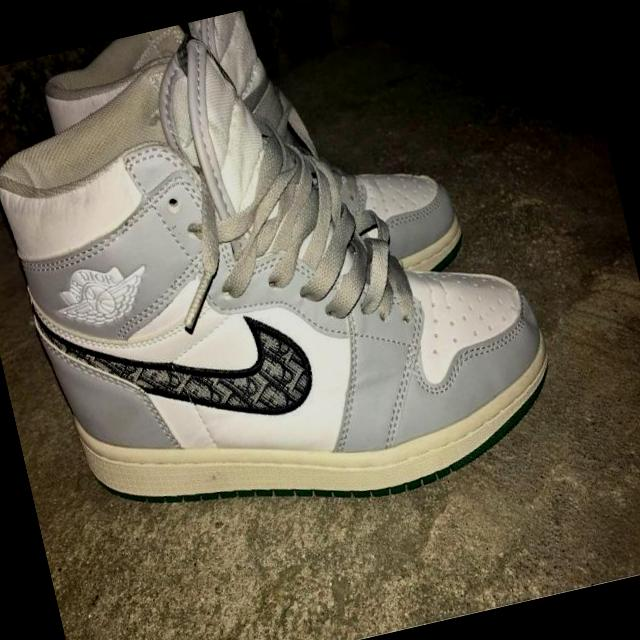nike_fake_jordan: (0, 0, 575, 573)
